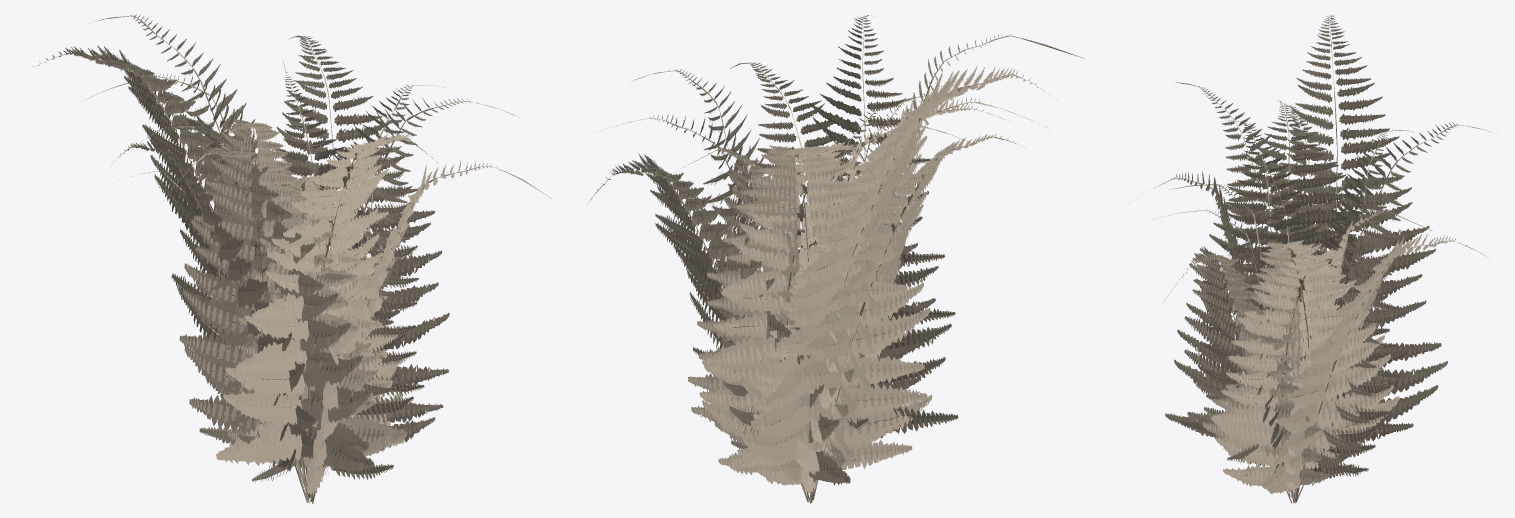
Rendered from 3dcodebench_Fern_seed0_L1_Q0__kimi_k3.glb.
3 renders of one model, left to right at view 1: azimuth 30°, elevation 25°; view 2: azimuth 150°, elevation 25°; view 3: azimuth 270°, elevation 25°, orthographic. The views are drawn at different scales.
Parts seen in each view (by area): view 1: object; view 2: object; view 3: object.
Boxes of the visible parts, x1=… form: object: x1=24, y1=14, x2=551, y2=503; object: x1=586, y1=15, x2=1084, y2=503; object: x1=1135, y1=14, x2=1496, y2=503.
Bounding box in the file's own units: 1.78 × 1.8 × 1.58.
